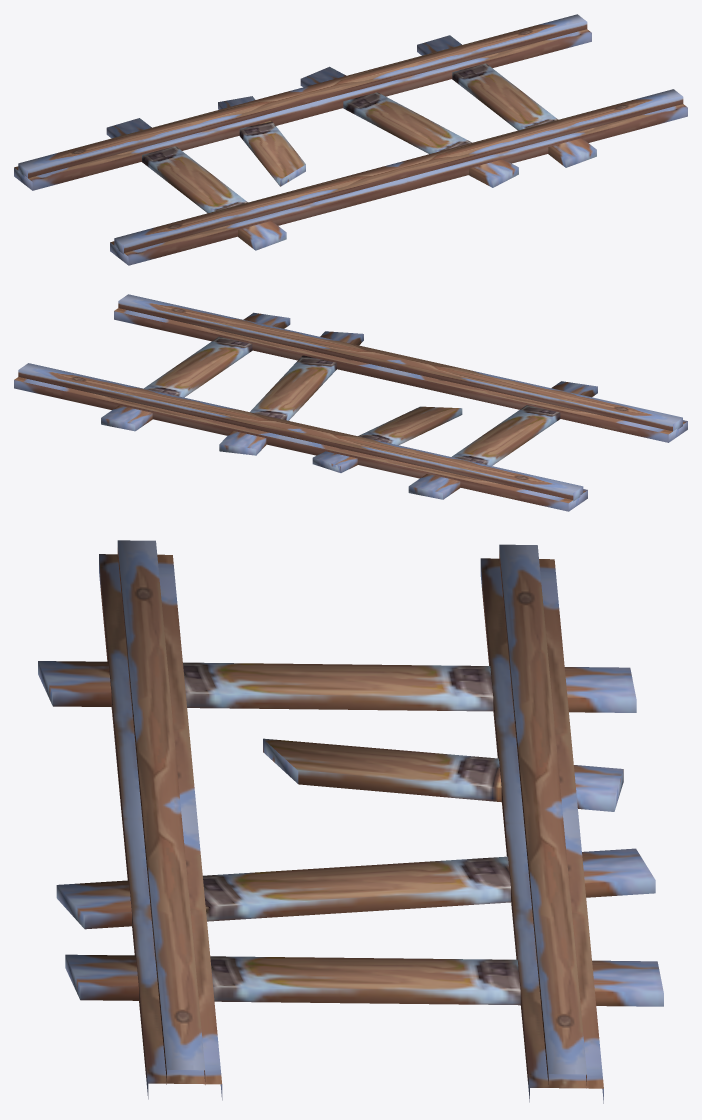
Rendered from Map_10_wooden02.FBX.
3 renders of one model, top to bottom at view 1: azimuth 30°, elevation 25°; view 2: azimuth 150°, elevation 25°; view 3: azimuth 270°, elevation 25°, orthographic. The views are drawn at different scales.
Visible parts, largest first — view 1: Map_10_wooden02; view 2: Map_10_wooden02; view 3: Map_10_wooden02.
Part boxes in pixels (bbox=[...]): Map_10_wooden02: bbox=[14, 14, 687, 265]; Map_10_wooden02: bbox=[14, 294, 687, 511]; Map_10_wooden02: bbox=[38, 540, 663, 1103].
Bounding box in the file's own units: 17.45 × 0.4804 × 8.64.
